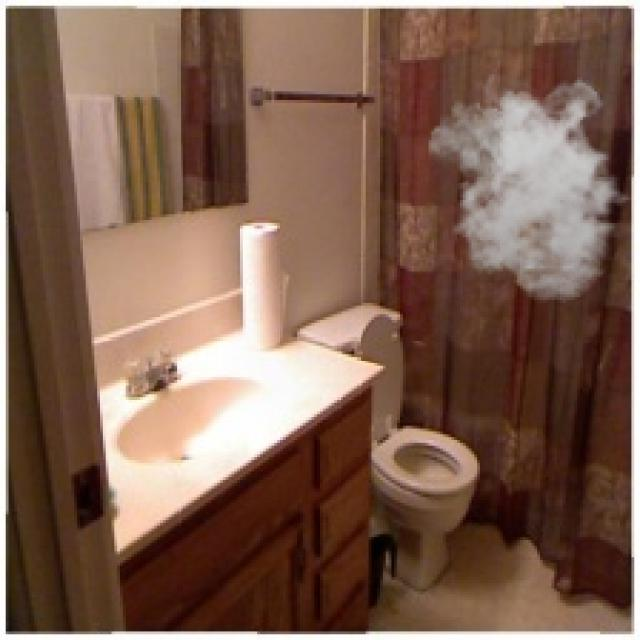smoke: (429, 74, 637, 306)
